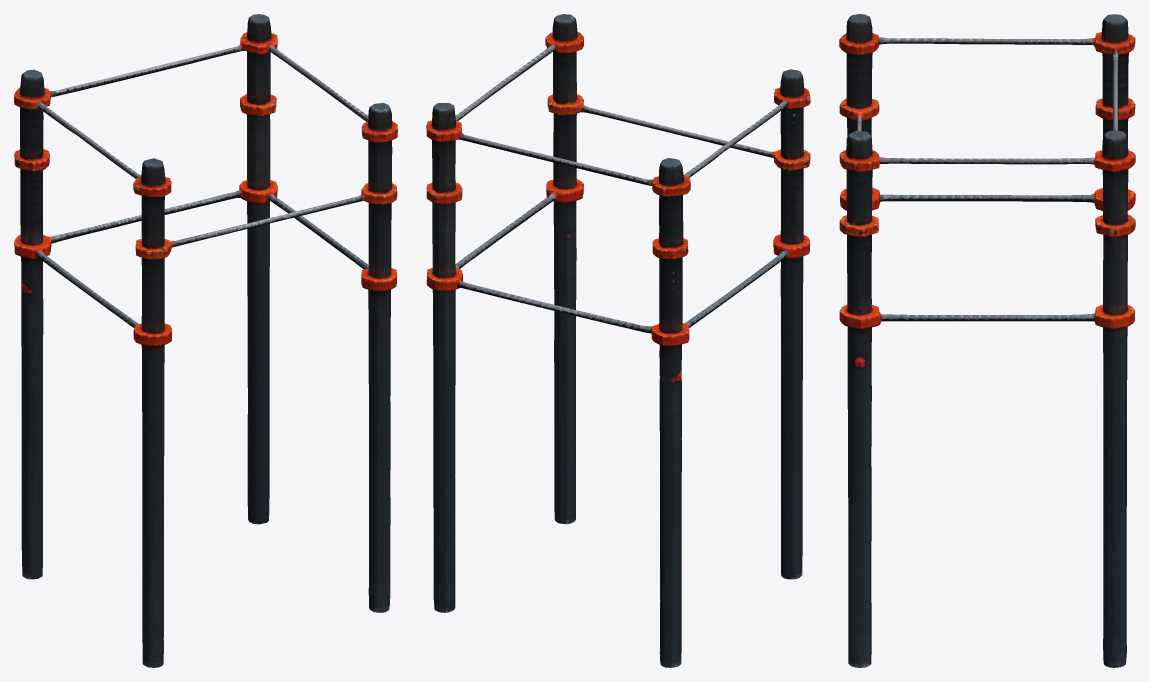
The picture shows the model from 3 angles, left to right: view 1: azimuth 30°, elevation 25°; view 2: azimuth 150°, elevation 25°; view 3: azimuth 270°, elevation 25°; orthographic projection. The views are drawn at different scales.
Visible parts, largest first — view 1: calisthenics-berlin; view 2: calisthenics-berlin; view 3: calisthenics-berlin.
Part boxes in pixels (x1,y1,x2,y2): calisthenics-berlin: [14, 14, 397, 667]; calisthenics-berlin: [426, 14, 810, 667]; calisthenics-berlin: [839, 14, 1135, 667].
Bounding box in the file's own units: 1.25 × 2.3 × 1.17.
Materials: 1 (1 with a texture image).
